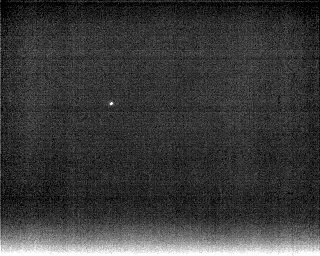BIRD: (108, 98, 116, 108)
